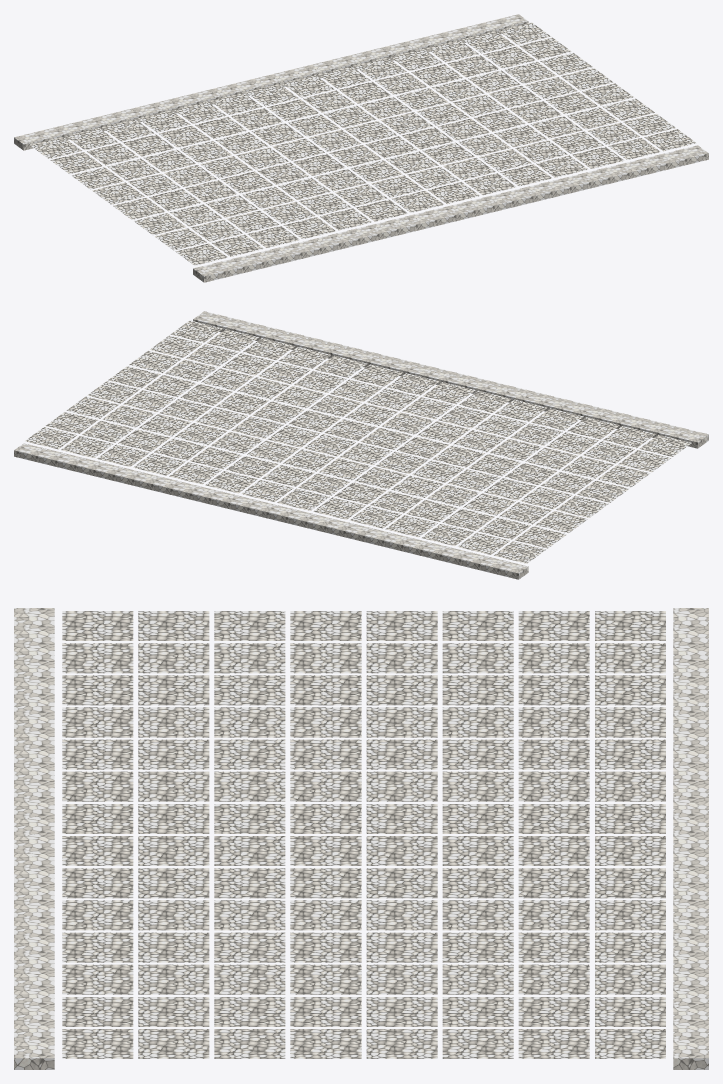
Rendered from pavimento_piazza.obj.
3 views of the same model, one above another, from view 1: azimuth 30°, elevation 25°; view 2: azimuth 150°, elevation 25°; view 3: azimuth 270°, elevation 25° (orthographic). The views are drawn at different scales.
Parts seen in each view (by area): view 1: selciato_002, selciato_003, selciato_001, selciato_000, pietra_004; view 2: selciato_002, selciato_003, selciato_001, selciato_000, pietra_004; view 3: selciato_002, selciato_003, selciato_001, selciato_000, pietra_004.
Part boxes in pixels (<box>): selciato_002: <box>50,53,654,247</box>; selciato_003: <box>30,22,675,239</box>; selciato_001: <box>71,49,696,256</box>; selciato_000: <box>92,37,660,265</box>; pietra_004: <box>14,14,708,282</box>; selciato_002: <box>66,347,649,554</box>; selciato_003: <box>25,335,629,563</box>; selciato_001: <box>102,320,670,545</box>; selciato_000: <box>46,329,691,528</box>; pietra_004: <box>14,311,708,579</box>; selciato_002: <box>62,611,665,1058</box>; selciato_003: <box>62,611,665,1058</box>; selciato_001: <box>62,611,665,1058</box>; selciato_000: <box>62,611,665,1058</box>; pietra_004: <box>14,608,708,1069</box>.
Size of the model in its own units: 42.1 by 0.515 by 27.4.
Materials: 5 (5 with a texture image).
